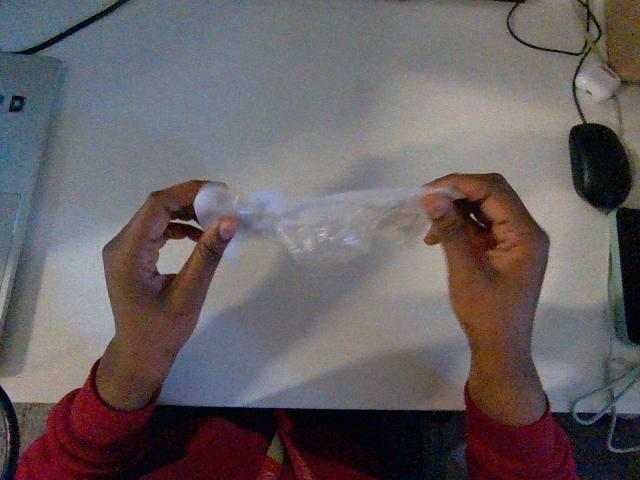gallipot: (194, 183, 457, 263)
